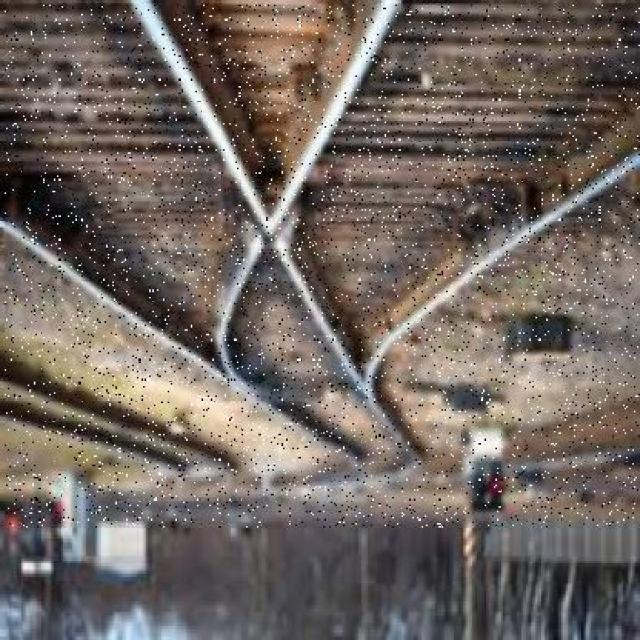rail: (5, 5, 640, 528)
